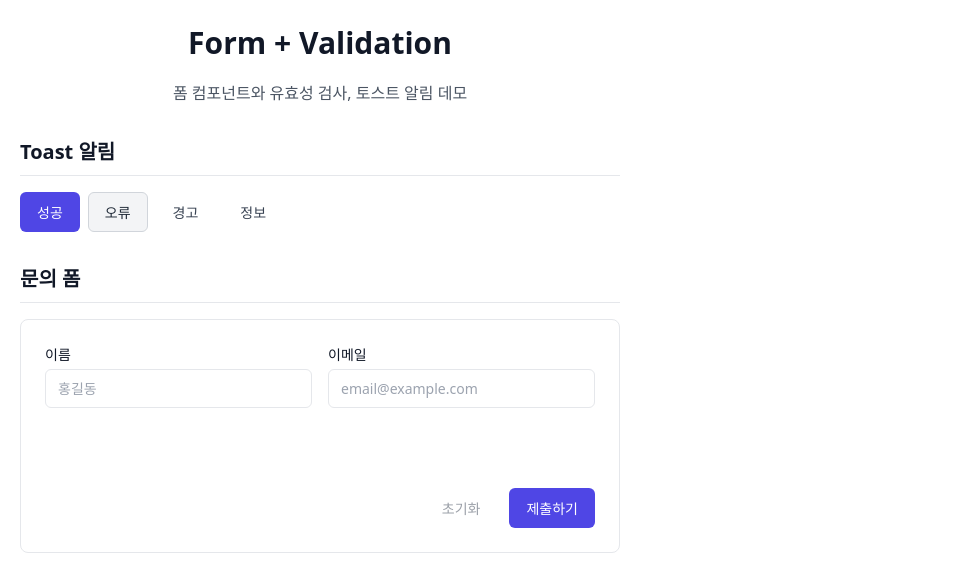
Test: FormDemo › 토스트 버튼 클릭 시 토스트가 표시된다
Step 1. Click the button "성공" → click(50, 212), box [20,192,80,232]
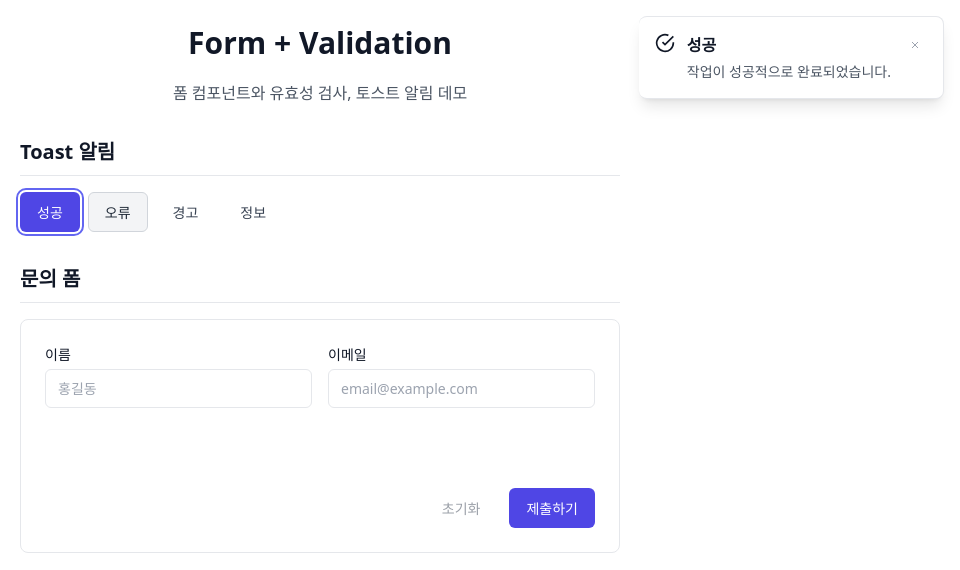
expect the text "작업이 성공적으로 완료되었습니다." is shown: met, box [687,61,891,82]
